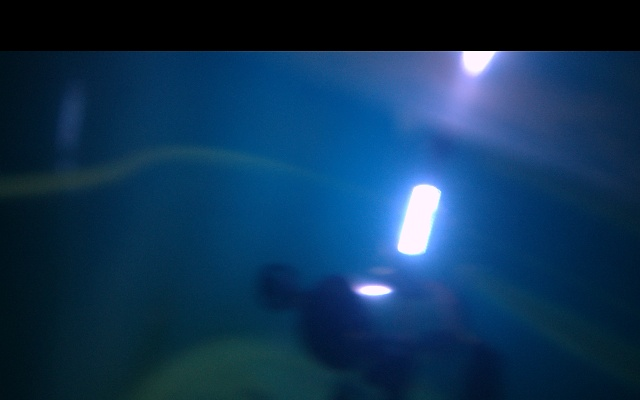white: (396, 183, 440, 256)
